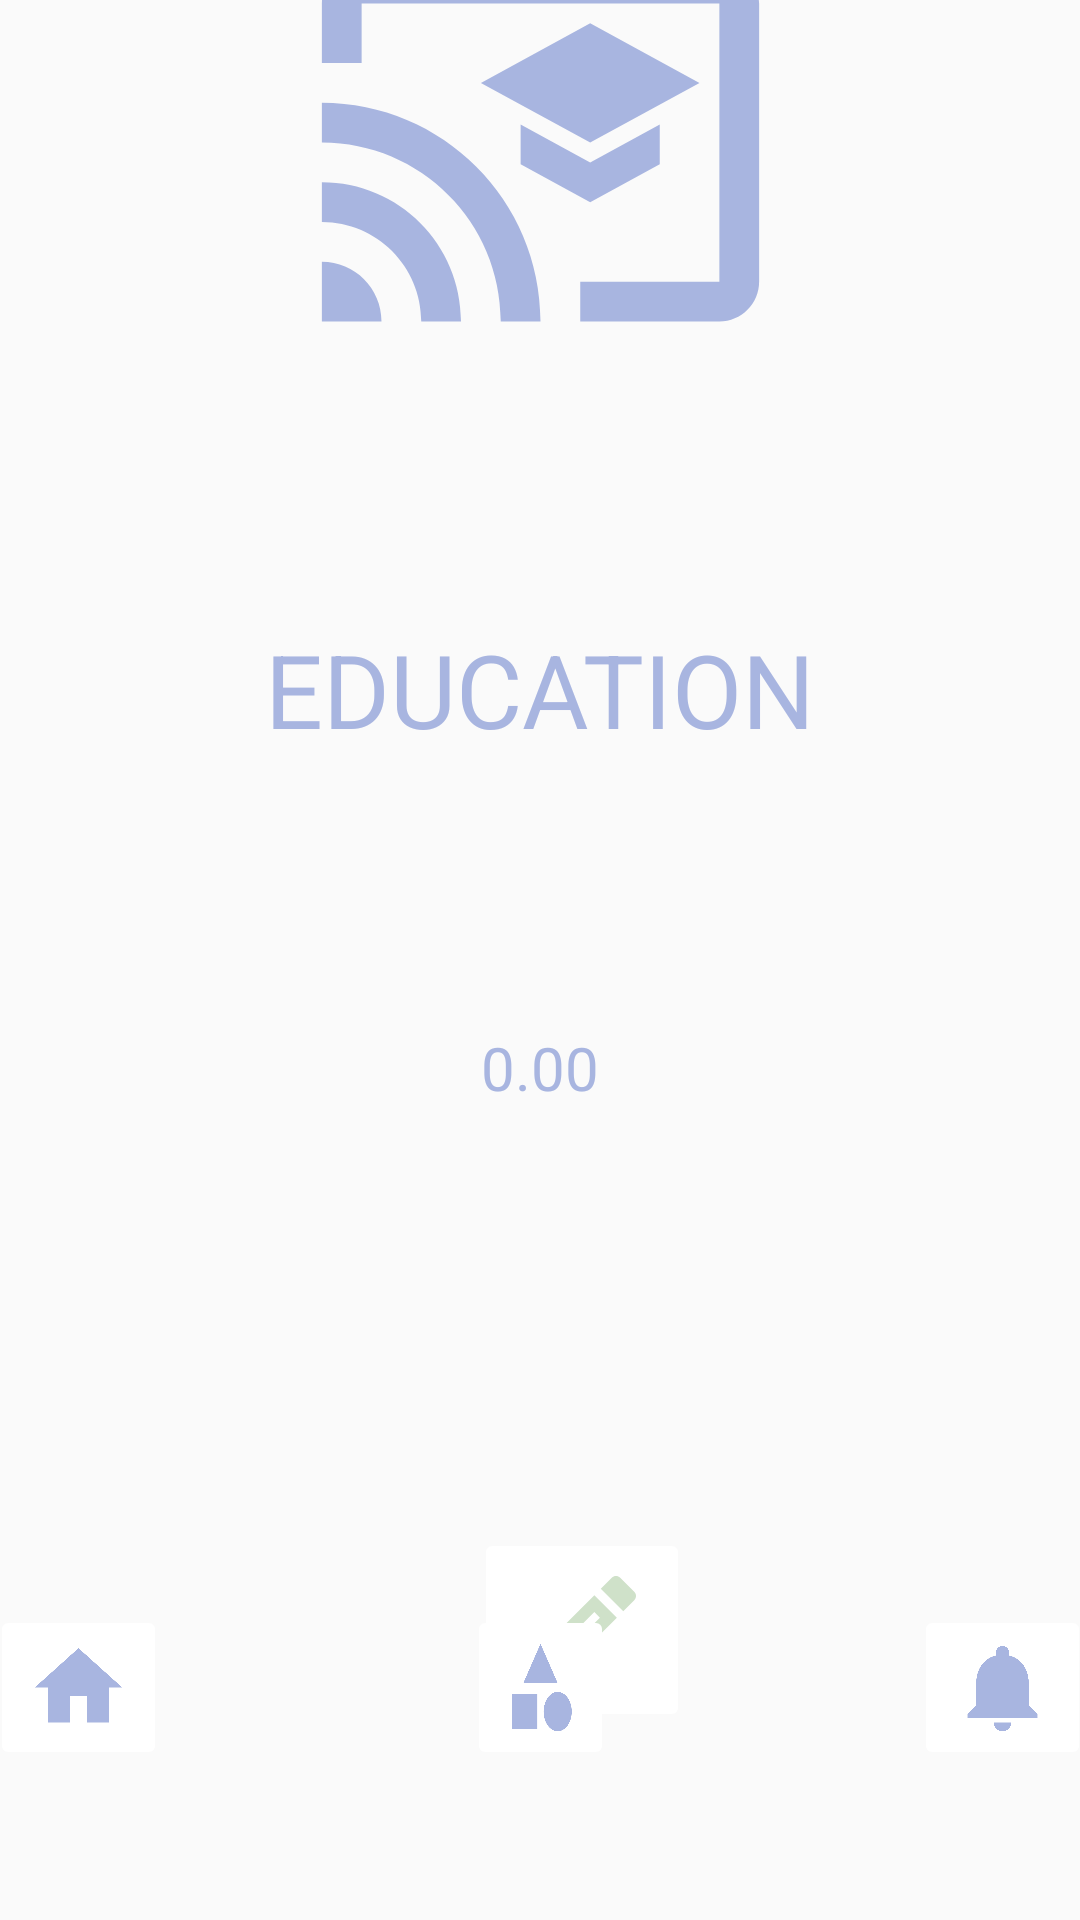

Named icons in this screenshot (1080*1920) and their centers, [x,y]:
HOME: [78,1685]
NOTIFICATION: [1002,1688]
